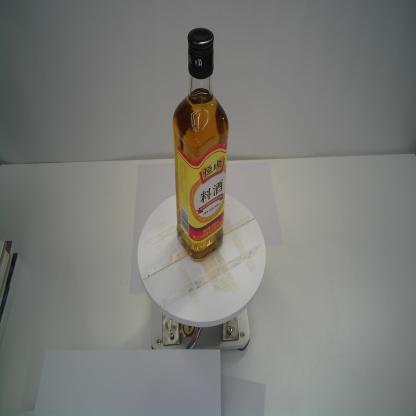Seasoner: (170, 24, 230, 262)
